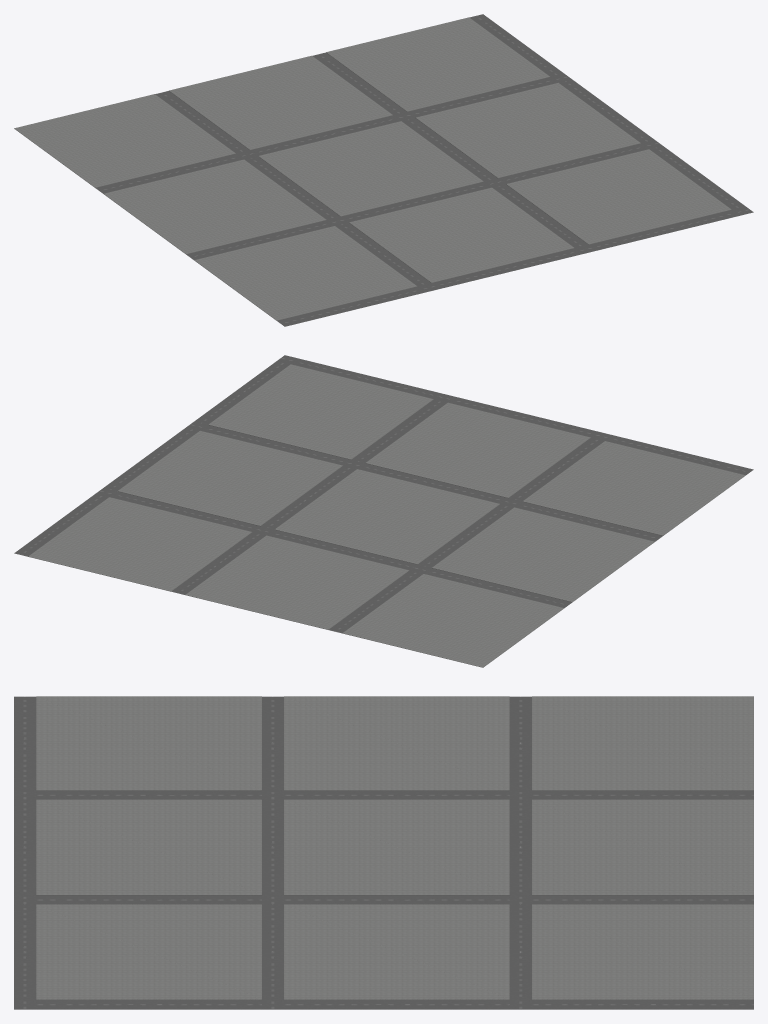
The model's file is streets.FBX.
3 views of the same model, one above another, from view 1: azimuth 30°, elevation 25°; view 2: azimuth 150°, elevation 25°; view 3: azimuth 270°, elevation 25° (orthographic). The views are drawn at different scales.
Parts seen in each view (by area): view 1: ground1_LOD0; view 2: ground1_LOD0; view 3: ground1_LOD0.
Boxes of the visible parts, x1,y1,x2,y2 form: ground1_LOD0: (14, 14, 753, 326); ground1_LOD0: (14, 355, 753, 667); ground1_LOD0: (14, 696, 753, 1009).
Size of what is drawn, in the model's own units: 200 by 0.1001 by 200.
